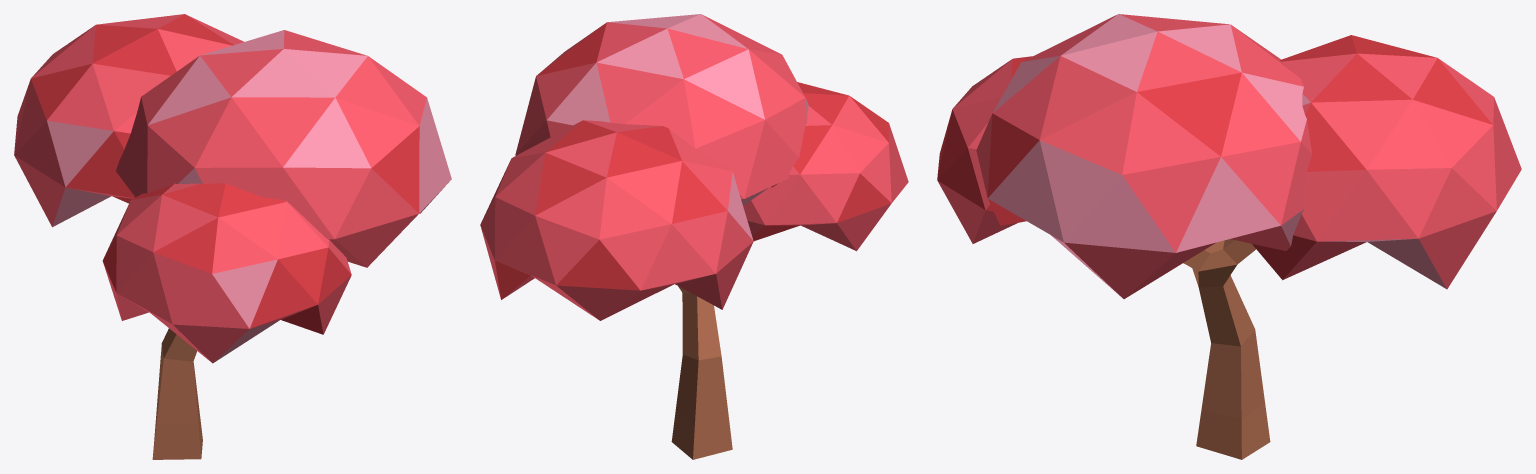
The model's file is Tree_12_1.fbx.
3 views of the same model, side by side, from view 1: azimuth 30°, elevation 25°; view 2: azimuth 150°, elevation 25°; view 3: azimuth 270°, elevation 25° (orthographic). The views are drawn at different scales.
Visible parts, largest first — view 1: Tree_12 top, Tree_12 trunk; view 2: Tree_12 top, Tree_12 trunk; view 3: Tree_12 top, Tree_12 trunk.
Boxes of the visible parts, box(x1,y1,x2,y2) form: Tree_12 top: box(14, 14, 451, 424); Tree_12 trunk: box(152, 407, 202, 459); Tree_12 top: box(480, 14, 908, 424); Tree_12 trunk: box(671, 411, 732, 459); Tree_12 top: box(937, 14, 1521, 419); Tree_12 trunk: box(1196, 403, 1270, 459).
Bounding box in the file's own units: 444 × 498 × 582.
